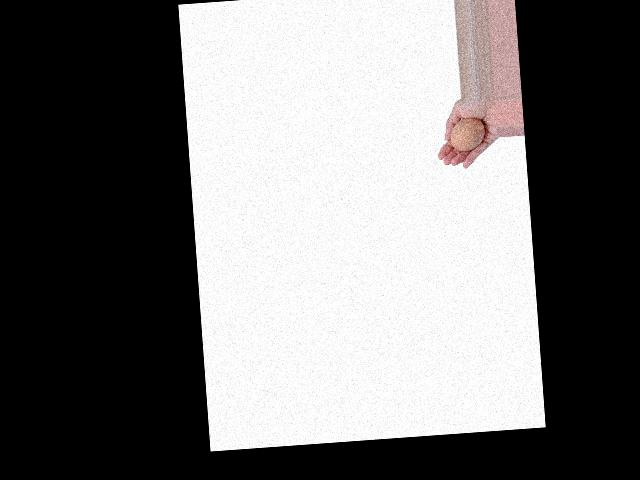egg: (449, 117, 486, 152)
